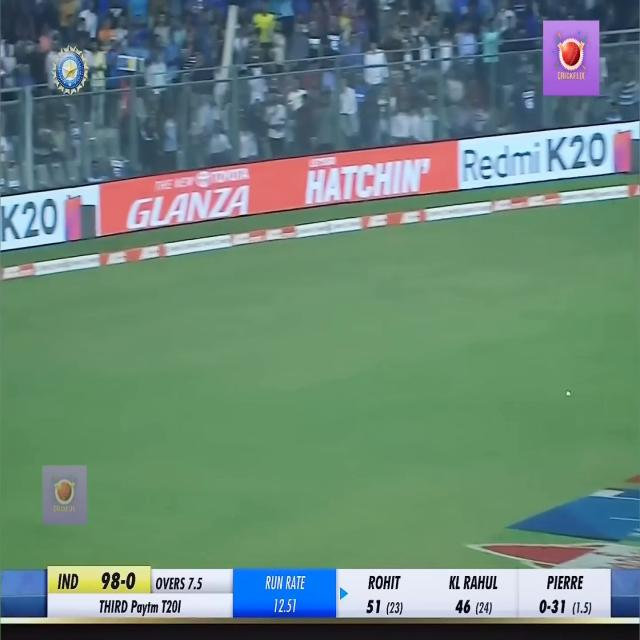fully_visible: (126, 597, 161, 618)
